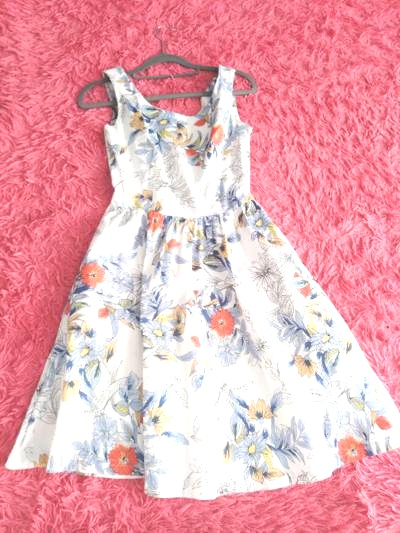Dress: (1, 41, 396, 498)
